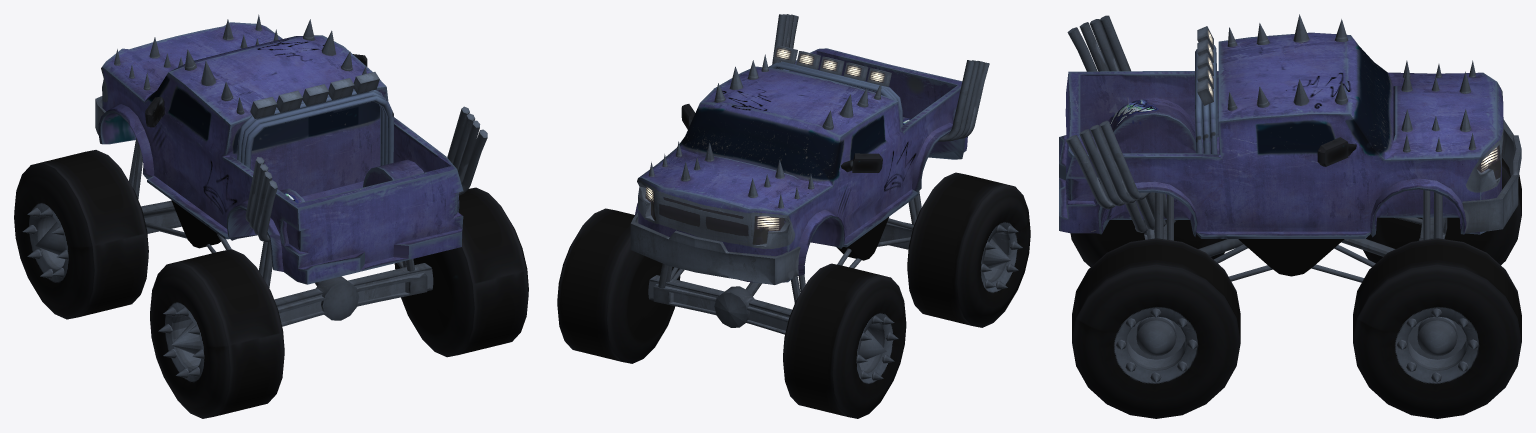
The model's file is monstertruck.fbx.
3 views of the same model, side by side, from view 1: azimuth 30°, elevation 25°; view 2: azimuth 150°, elevation 25°; view 3: azimuth 270°, elevation 25° (orthographic). The views are drawn at different scales.
Parts seen in each view (by area): view 1: Box001, Cone071, Cone072, Cone073, Box003, Line003, Cylinder024, Line002, Cylinder014, Line001, Box002, Line008 (+2 smaller); view 2: Box001, Cone072, Cone071, Cone074, Box006, Box002, Cylinder017, Cylinder014, Line004, Box005, Line001, Box003 (+1 smaller); view 3: Box001, Cone074, Cone073, Cone071, Box006, Cone072, Cylinder014, Line008, Line009, Line010, Line011, Box007 (+9 smaller).
Part boxes in pixels (<box>): Box001: <box>98,22,463,284</box>; Cone071: <box>14,150,148,319</box>; Cone072: <box>150,249,284,418</box>; Cone073: <box>394,187,528,357</box>; Box003: <box>274,263,433,326</box>; Line003: <box>244,95,393,168</box>; Cylinder024: <box>315,276,359,320</box>; Line002: <box>240,91,387,164</box>; Cylinder014: <box>171,200,220,248</box>; Line001: <box>237,90,383,165</box>; Box002: <box>141,200,181,233</box>; Line008: <box>458,129,487,195</box>; Box001: <box>634,48,967,283</box>; Cone072: <box>907,172,1030,327</box>; Cone071: <box>783,263,906,418</box>; Cone074: <box>557,208,680,363</box>; Box006: <box>630,213,800,284</box>; Box002: <box>648,275,791,334</box>; Cylinder017: <box>714,282,761,327</box>; Cylinder014: <box>836,217,888,260</box>; Line004: <box>938,60,974,141</box>; Box005: <box>841,153,882,172</box>; Line001: <box>768,62,893,99</box>; Box003: <box>879,222,912,249</box>; Box001: <box>1059,32,1503,238</box>; Cone074: <box>1353,238,1521,418</box>; Cone073: <box>1072,238,1240,418</box>; Cone071: <box>1363,158,1521,264</box>; Box006: <box>1462,119,1521,233</box>; Cone072: <box>1070,220,1226,267</box>; Cylinder014: <box>1238,239,1344,276</box>; Line008: <box>1066,135,1147,232</box>; Line009: <box>1079,129,1154,229</box>; Line010: <box>1090,124,1165,226</box>; Line011: <box>1099,120,1175,224</box>; Box007: <box>1317,137,1356,166</box>.
Size of the model in its own units: 479 by 379 by 538.
1 material, 1 textured.
